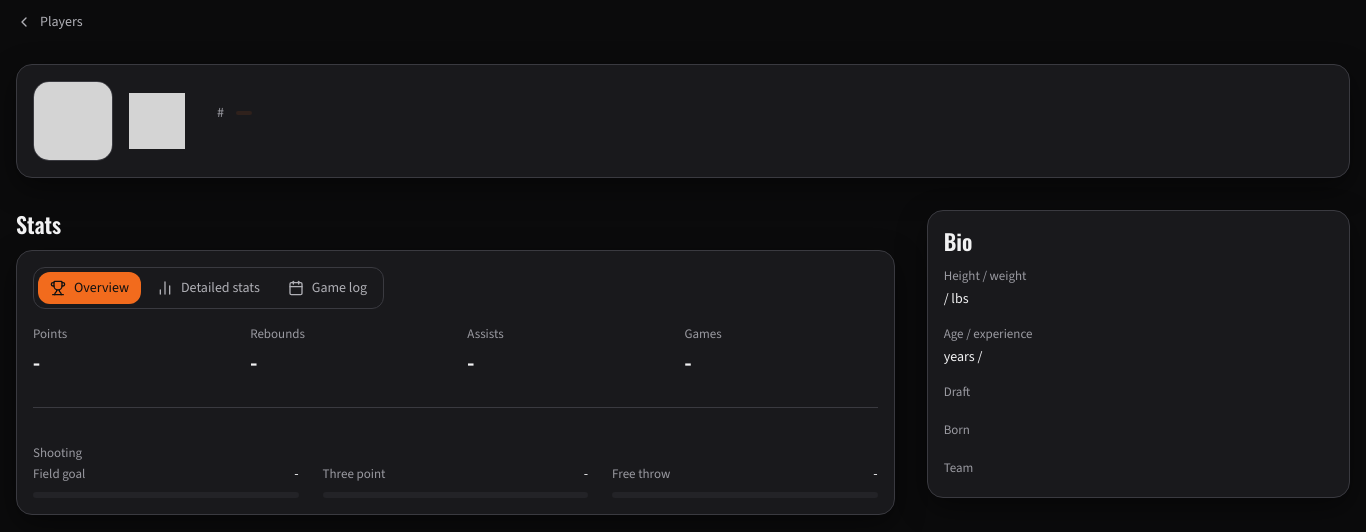
Test case: PlayerProfilePage › no season stats: an empty state, not a grid of zeros
Click the tab "Detailed stats" at [208, 288], box [145,272,272,304]
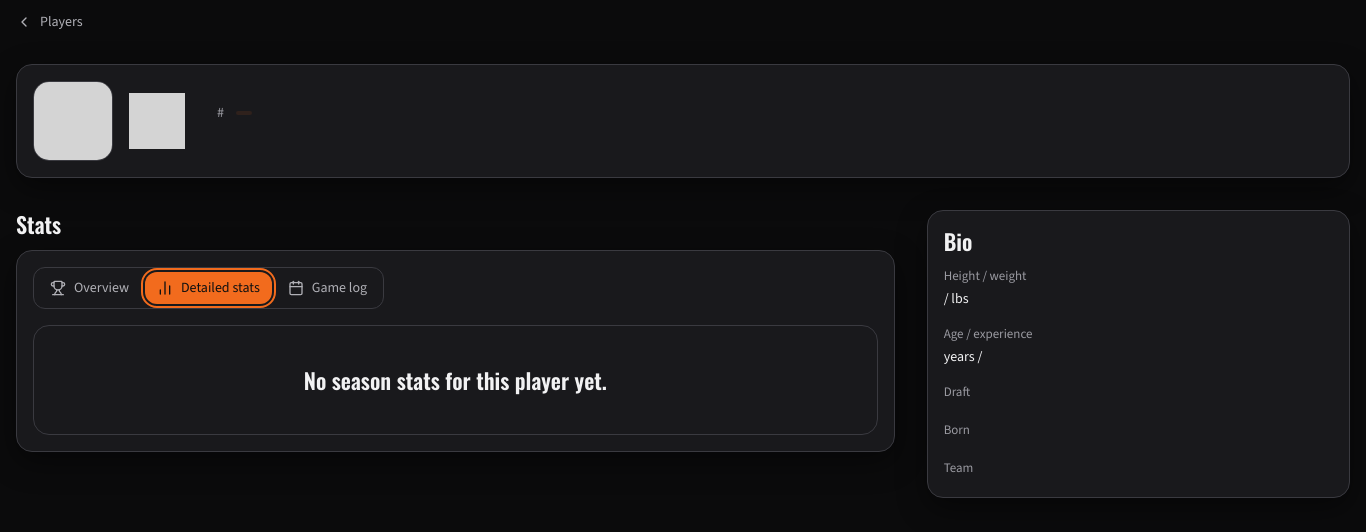
Result: the text "No season stats for this player yet." is shown at [304,366,607,394]
